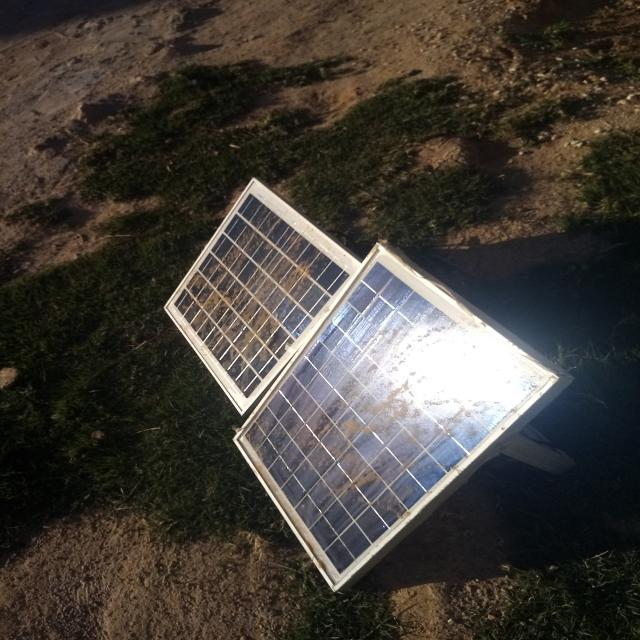faulty: (233, 244, 556, 589), (164, 179, 362, 412)
